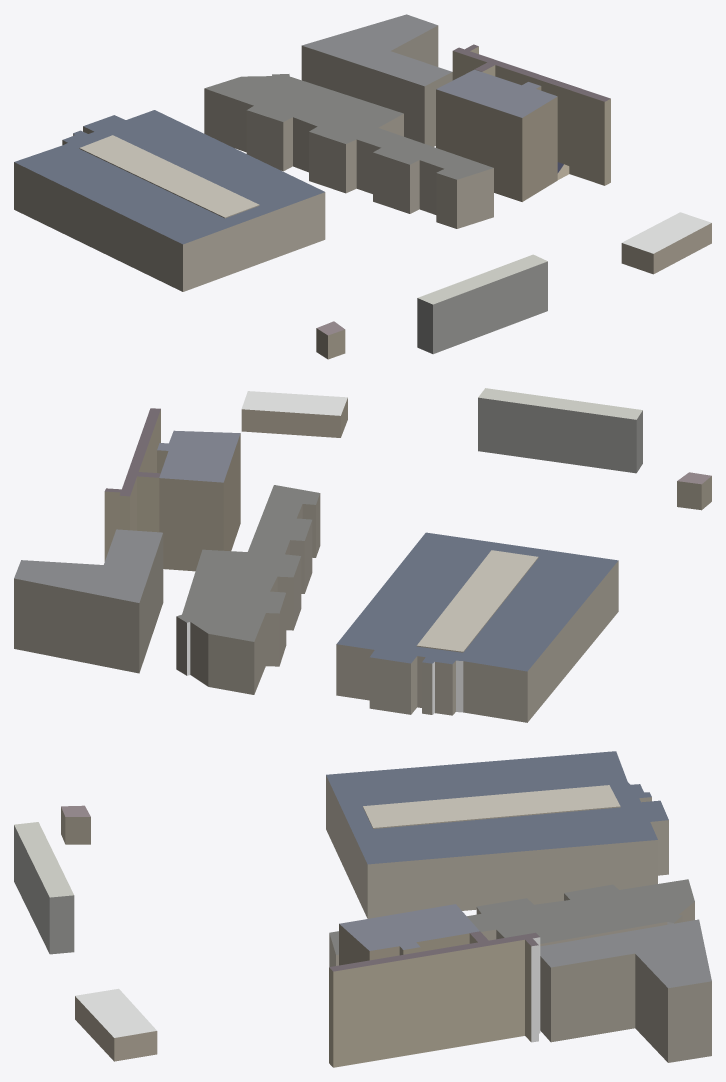
3 renders of one model, top to bottom at view 1: azimuth 30°, elevation 25°; view 2: azimuth 150°, elevation 25°; view 3: azimuth 270°, elevation 25°, orthographic. The views are drawn at different scales.
Parts seen in each view (by area): view 1: tuile; view 2: tuile; view 3: tuile.
Boxes of the visible parts, <box> form: tuile: <box>14,14,711,359</box>; tuile: <box>14,388,711,722</box>; tuile: <box>14,751,711,1067</box>.
Bounding box in the file's own units: 227 × 41.92 × 250.
